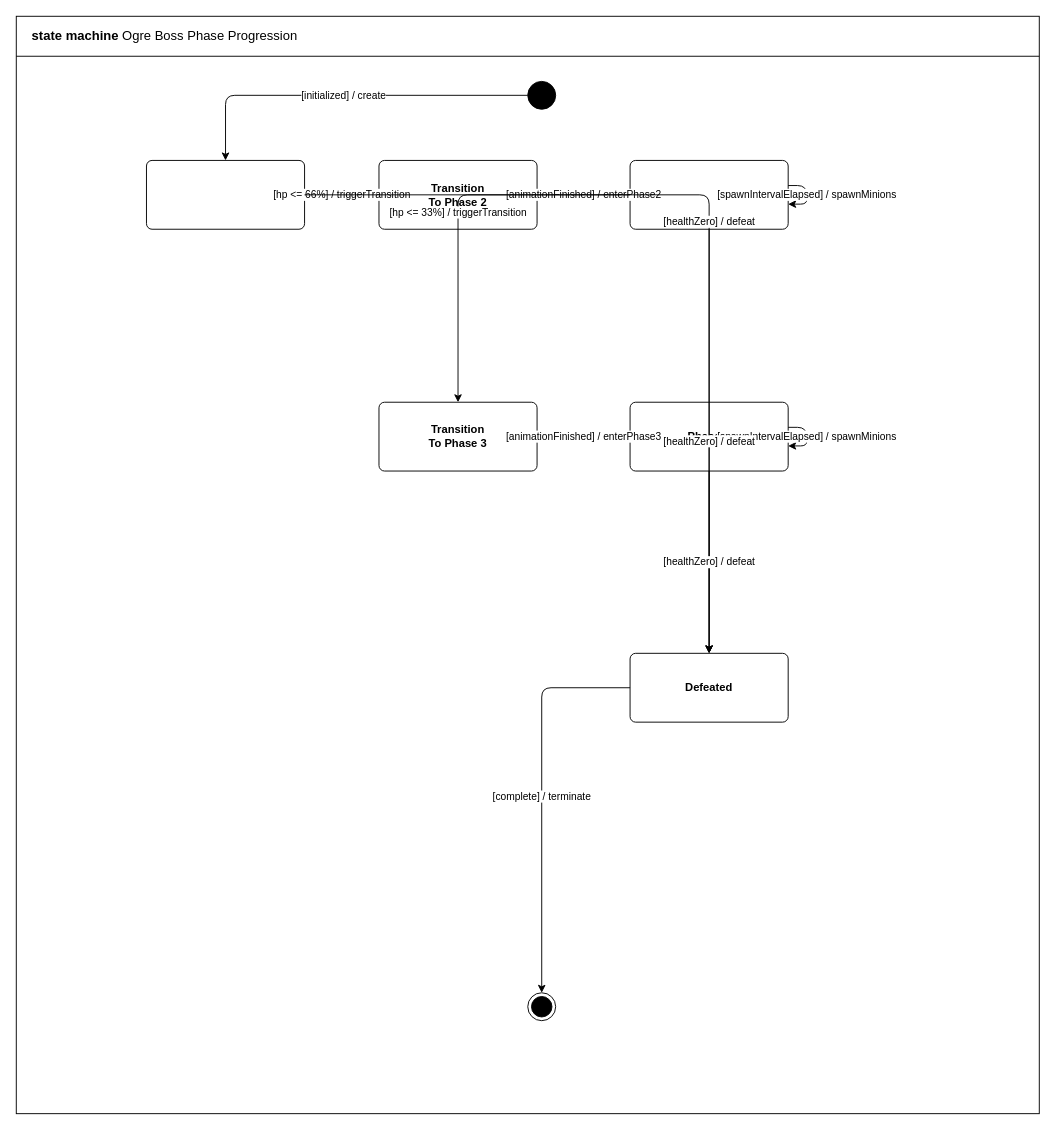
Image size: 1056x1130. Some labels were removed from this diagram. Here are the shapes that lost their labels. From the top down, the centre of each, then its label:
(225,194): Phase 1
(708,194): Phase 2
